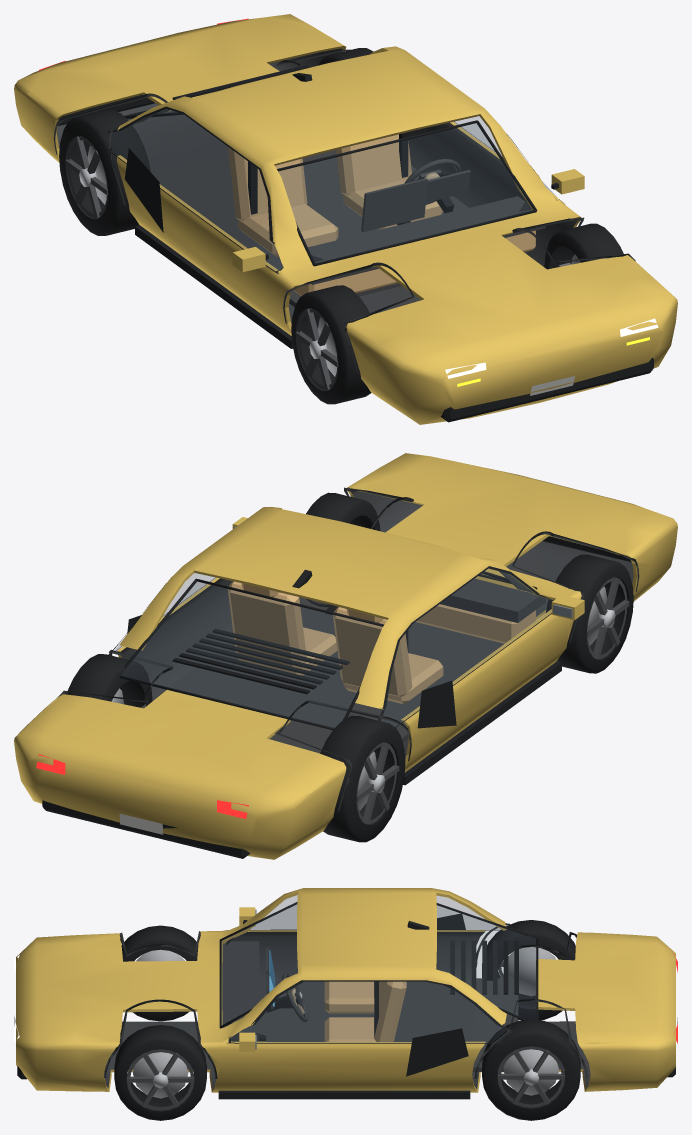
Rendered from fleet-revuelto.glb.
The picture shows the model from 3 angles, top to bottom: view 1: azimuth 30°, elevation 25°; view 2: azimuth 150°, elevation 25°; view 3: azimuth 270°, elevation 25°; orthographic projection. The views are drawn at different scales.
Parts seen in each view (by area): view 1: Body, Surface_CarRoot_Glass, Interior_CarRoot_InteriorDark, Surface_CarRoot_BlackTrim, Interior_CarRoot_InteriorLeather, WheelRearR_Tyre, WheelFrontR_Tyre, Surface_CarRoot_Cladding, WheelFrontL_Tyre, Surface_WheelRearR_Rim, Surface_WheelFrontR_Rim, Surface_CarRoot_Paint (+2 smaller); view 2: Body, Surface_CarRoot_Glass, Interior_CarRoot_InteriorDark, Surface_CarRoot_BlackTrim, Interior_CarRoot_InteriorLeather, WheelRearR_Tyre, WheelFrontR_Tyre, WheelRearL_Tyre, Surface_CarRoot_Cladding, WheelFrontL_Tyre, Surface_WheelRearR_Rim, Surface_WheelFrontR_Rim (+2 smaller); view 3: Body, Surface_CarRoot_Glass, Interior_CarRoot_InteriorDark, Surface_CarRoot_BlackTrim, WheelRearL_Tyre, WheelFrontL_Tyre, Interior_CarRoot_InteriorLeather, WheelRearR_Tyre, WheelFrontR_Tyre, Surface_CarRoot_Cladding, Surface_WheelFrontL_Rim, Surface_WheelRearL_Rim (+7 smaller).
Boxes of the visible parts, x1,y1,x2,y2 form: Body: [14, 14, 677, 424]; Surface_CarRoot_Glass: [109, 109, 557, 271]; Interior_CarRoot_InteriorDark: [151, 150, 545, 307]; Surface_CarRoot_BlackTrim: [58, 65, 653, 422]; Interior_CarRoot_InteriorLeather: [228, 134, 535, 295]; WheelRearR_Tyre: [59, 109, 150, 235]; WheelFrontR_Tyre: [291, 285, 371, 404]; Surface_CarRoot_Cladding: [53, 49, 635, 373]; WheelFrontL_Tyre: [544, 223, 623, 269]; Surface_WheelRearR_Rim: [65, 136, 107, 218]; Surface_WheelFrontR_Rim: [295, 308, 338, 390]; Surface_CarRoot_Paint: [232, 169, 584, 272]; Body: [14, 453, 677, 859]; Surface_CarRoot_Glass: [111, 569, 551, 727]; Interior_CarRoot_InteriorDark: [141, 578, 545, 758]; Surface_CarRoot_BlackTrim: [42, 536, 631, 858]; Interior_CarRoot_InteriorLeather: [227, 581, 535, 704]; WheelRearR_Tyre: [320, 715, 405, 842]; WheelFrontR_Tyre: [546, 554, 633, 673]; WheelRearL_Tyre: [67, 654, 152, 707]; Surface_CarRoot_Cladding: [58, 487, 639, 811]; WheelFrontL_Tyre: [306, 492, 380, 530]; Surface_WheelRearR_Rim: [356, 742, 399, 824]; Surface_WheelFrontR_Rim: [586, 577, 629, 659]; Body: [16, 888, 675, 1092]; Surface_CarRoot_Glass: [222, 895, 535, 1042]; Interior_CarRoot_InteriorDark: [222, 941, 518, 1071]; Surface_CarRoot_BlackTrim: [17, 901, 675, 1099]; WheelRearL_Tyre: [482, 1019, 580, 1120]; WheelFrontL_Tyre: [114, 1025, 206, 1120]; Interior_CarRoot_InteriorLeather: [324, 981, 406, 1041]; WheelRearR_Tyre: [482, 920, 575, 1020]; WheelFrontR_Tyre: [121, 925, 198, 1021]; Surface_CarRoot_Cladding: [104, 923, 587, 1078]; Surface_WheelFrontL_Rim: [126, 1049, 194, 1110]; Surface_WheelRearL_Rim: [497, 1046, 565, 1107].
Size of the model in its own units: 2.38 by 1.18 by 4.98.
